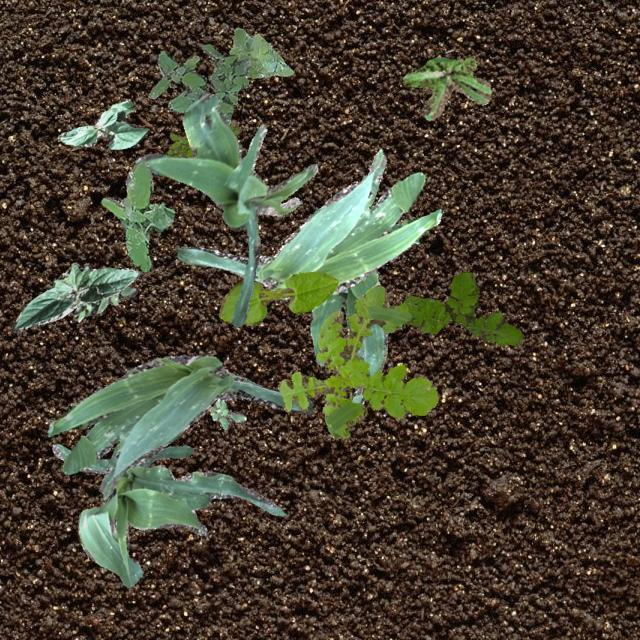crop: (134, 92, 316, 326), (176, 148, 440, 300), (46, 352, 312, 498), (52, 444, 286, 586), (308, 268, 388, 404), (10, 262, 140, 332), (218, 270, 336, 324), (56, 100, 148, 148)
weed: (276, 284, 438, 438), (402, 272, 524, 346), (146, 42, 250, 124), (100, 160, 174, 270), (402, 54, 492, 120), (228, 27, 292, 78), (166, 122, 240, 156), (74, 284, 136, 320), (208, 398, 246, 428)
